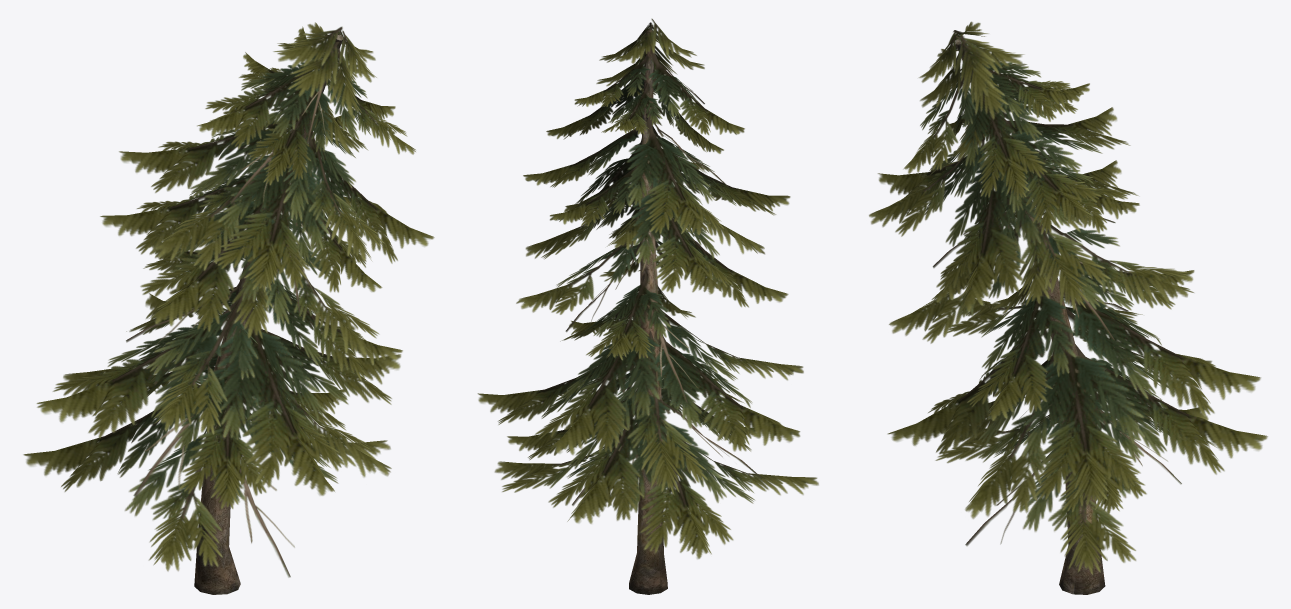
The model's file is fire-large-3.glb.
3 renders of one model, left to right at view 1: azimuth 30°, elevation 25°; view 2: azimuth 150°, elevation 25°; view 3: azimuth 270°, elevation 25°, orthographic. The views are drawn at different scales.
Parts seen in each view (by area): view 1: Branches001, Tree_bark001; view 2: Branches001, Tree_bark001; view 3: Branches001, Tree_bark001.
Part boxes in pixels (bbox=[...]): Branches001: bbox=[23, 22, 434, 577]; Tree_bark001: bbox=[194, 34, 343, 594]; Branches001: bbox=[477, 18, 818, 558]; Tree_bark001: bbox=[629, 30, 667, 594]; Branches001: bbox=[869, 21, 1267, 575]; Tree_bark001: bbox=[955, 39, 1105, 594].
Size of the model in its own units: 405 by 600 by 387.
2 materials, 2 textured.
